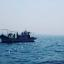fishing boat: (0, 27, 39, 44)
